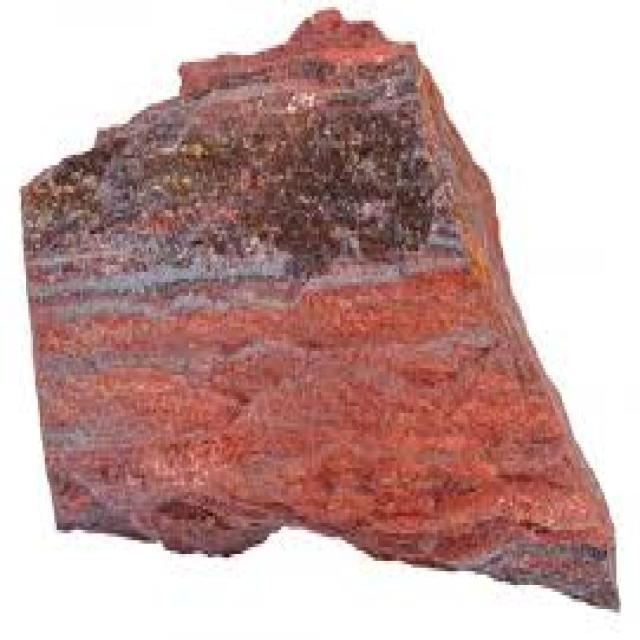Metamorphic: (14, 14, 621, 616)
